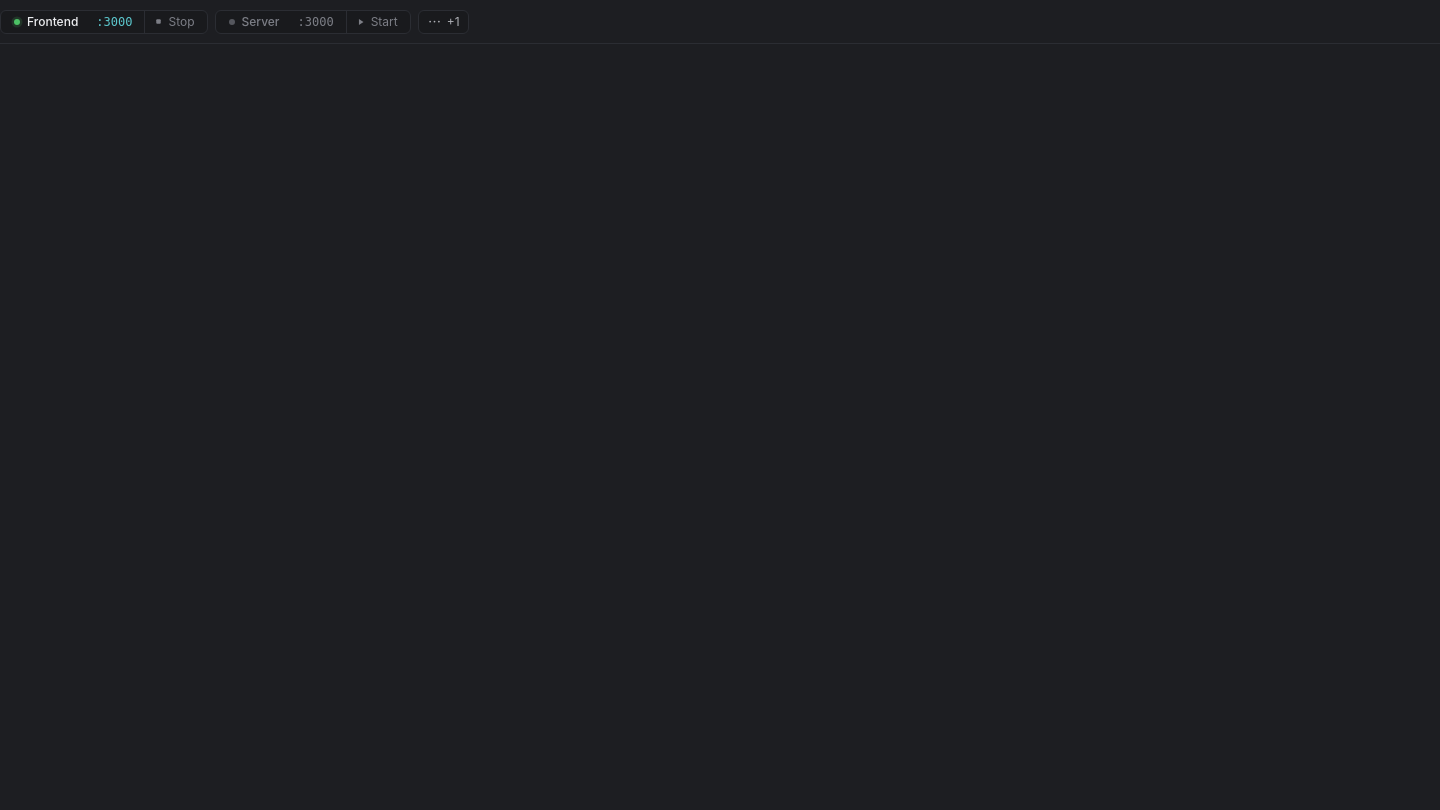
it: keeps extra services and the full database identity accessible through overflow
expect the text "Worker" is not shown: met
Click the button named "More services and database" at [443, 22], box x1=418 y1=10 x2=468 y2=34
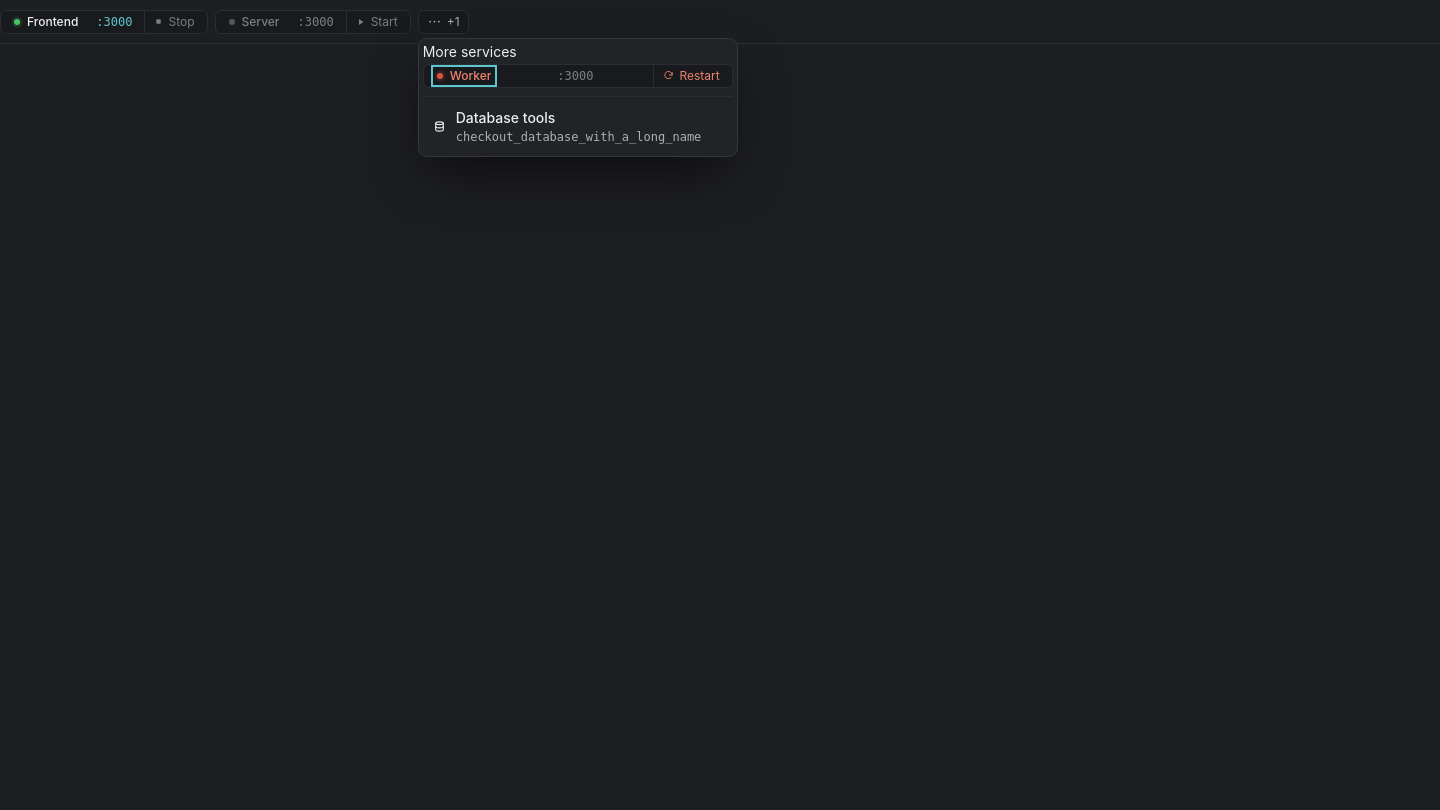
expect the dialog named "Services and database" is shown: met, box x1=418 y1=38 x2=738 y2=156
Click the button "Restart" at [691, 76], box x1=654 y1=64 x2=728 y2=86
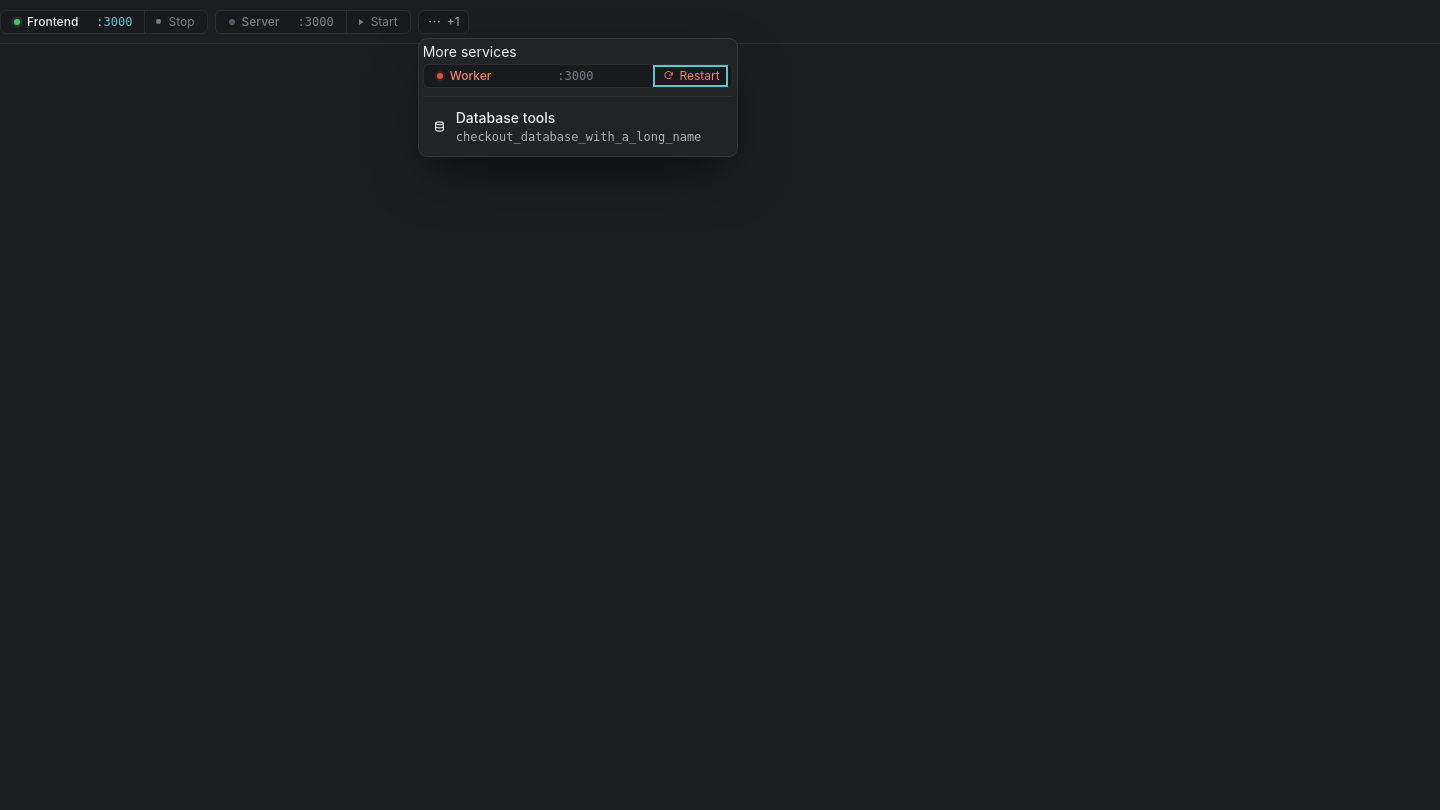
expect the text "checkout_database_with_a_long_name" is shown: met, box x1=456 y1=130 x2=701 y2=144
Click the button "Database tools checkout_database_with_a_long_name" at [506, 117], box x1=423 y1=96 x2=733 y2=152
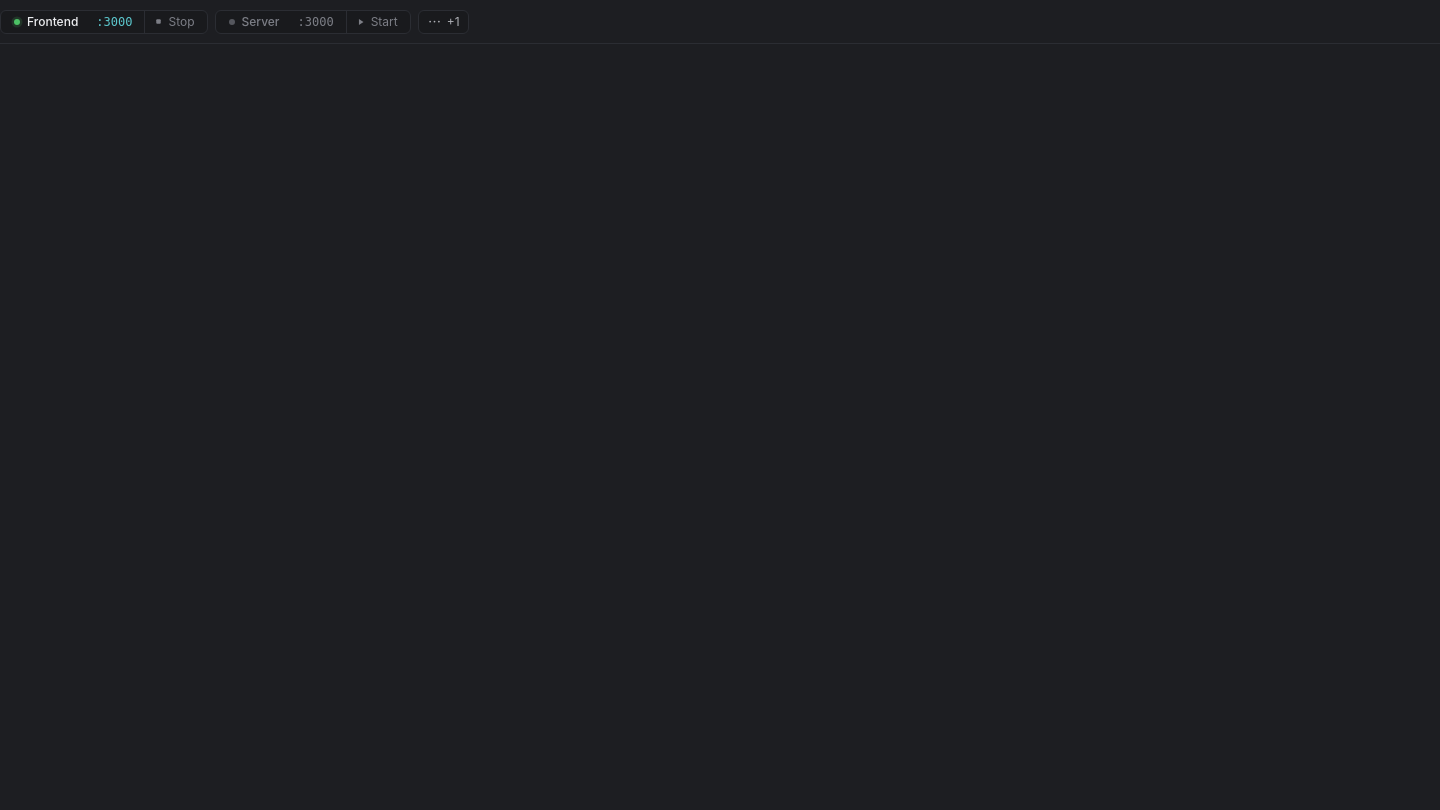
expect the dialog is gone: met
